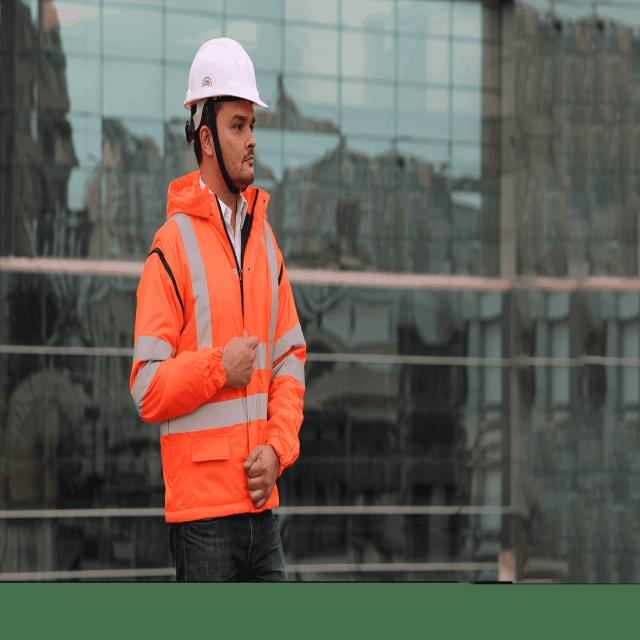Reflective-Jacket: (144, 176, 304, 523)
Safety-Helmet: (183, 33, 269, 114)
